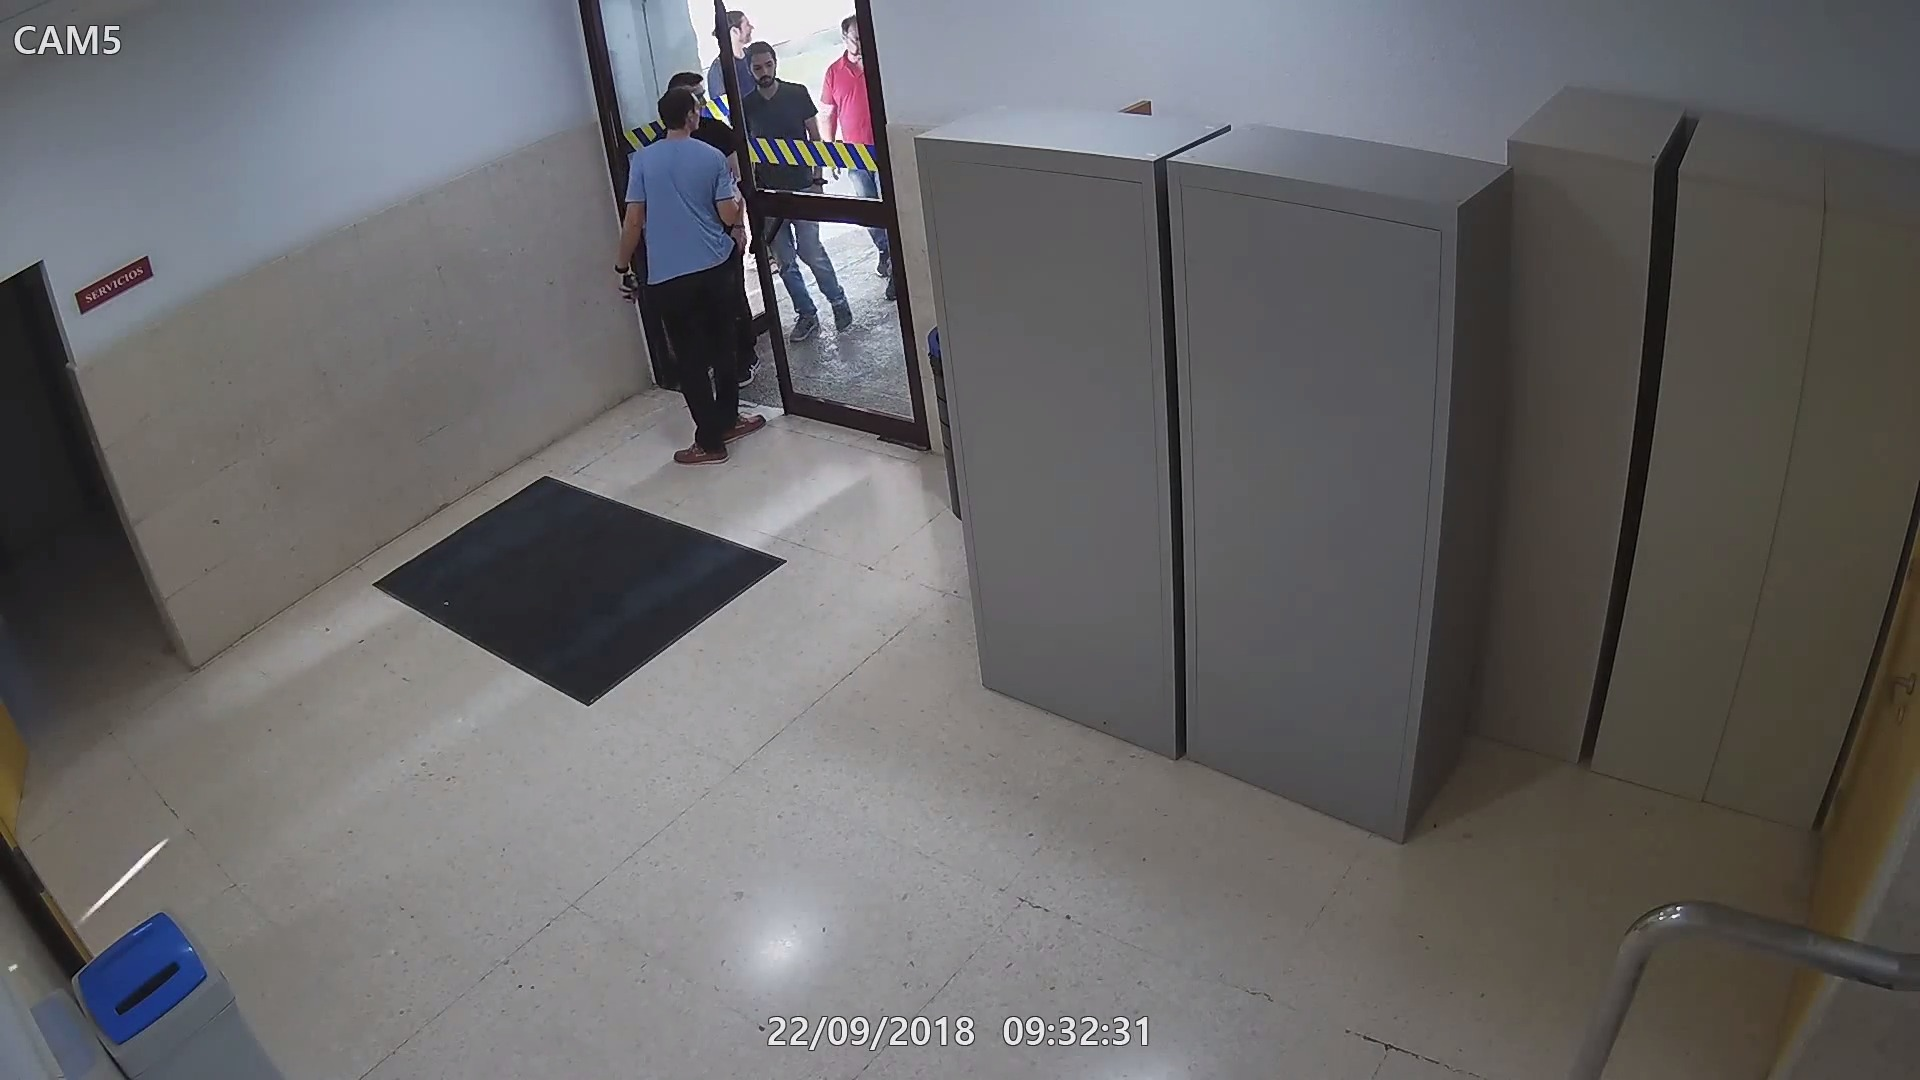Handgun: (612, 261, 641, 305)
Knife: (612, 273, 642, 311)
